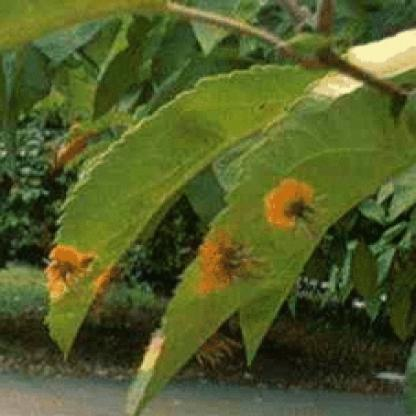apple rust leaf: (38, 34, 411, 414)
